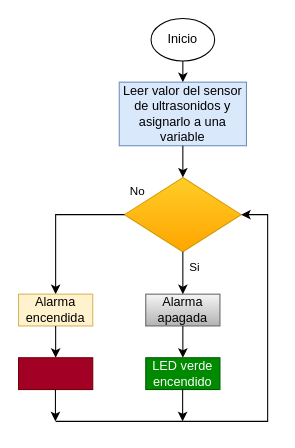
Some shapes in this 295 by 448 pixel diagram are drawn without their labels. The centre of each missing label's shape, as x and y in pixels:
"LED rojo encendido" belongs at (55,373).
"¿Distancia > 40?" belongs at (182,214).
